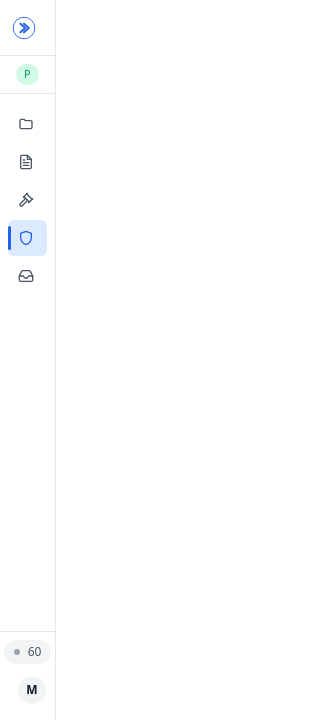
Test: ProductSidebar › renderiza active indicator no item cuja rota bate com pathname
The width and height of the screenshot is (320, 720).
Hover over the element with test id "app-sidebar": x=28, y=360 [0,0,56,719]
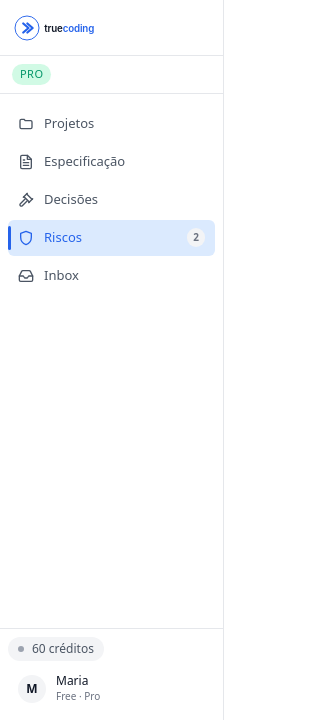
Check: the link "Projetos" is shown, box [18,114,94,132]
